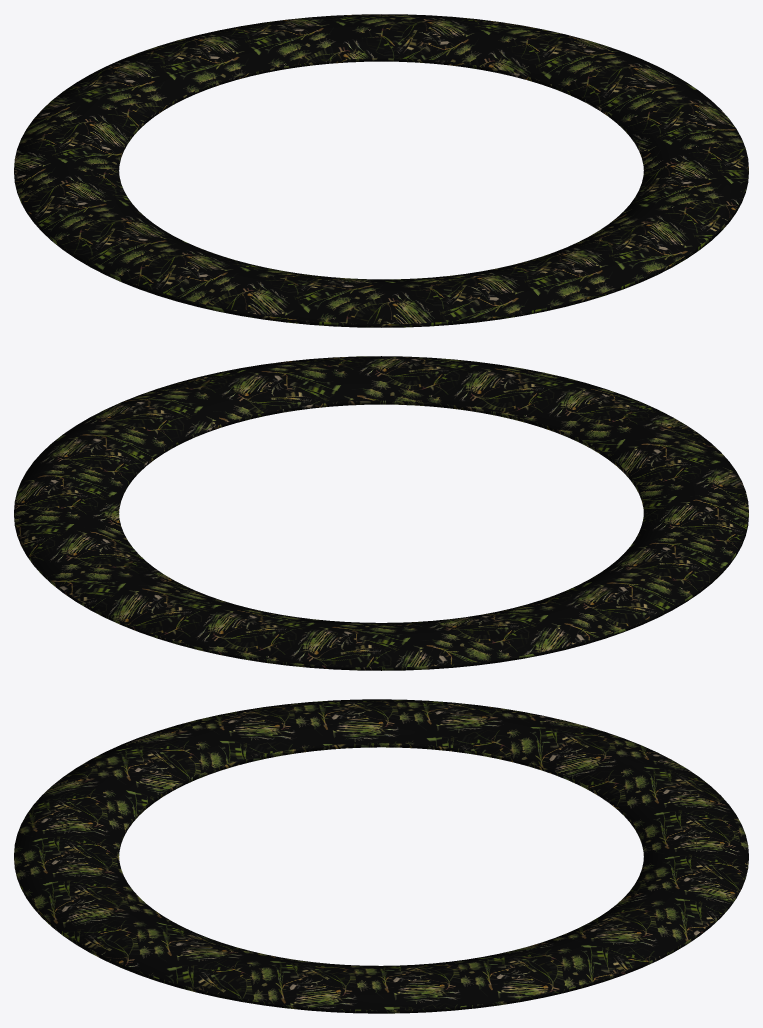
File: stone_ring_base.glb
The picture shows the model from 3 angles, top to bottom: view 1: azimuth 30°, elevation 25°; view 2: azimuth 150°, elevation 25°; view 3: azimuth 270°, elevation 25°; orthographic projection.
Visible parts, largest first — view 1: stone_ring_base; view 2: stone_ring_base; view 3: stone_ring_base.
Boxes of the visible parts, bbox=[...] form: stone_ring_base: bbox=[14, 14, 748, 327]; stone_ring_base: bbox=[14, 356, 748, 670]; stone_ring_base: bbox=[14, 699, 748, 1013].
Bounding box in the file's own units: 14 × 0.3114 × 14.
Materials: 1 (1 with a texture image).
